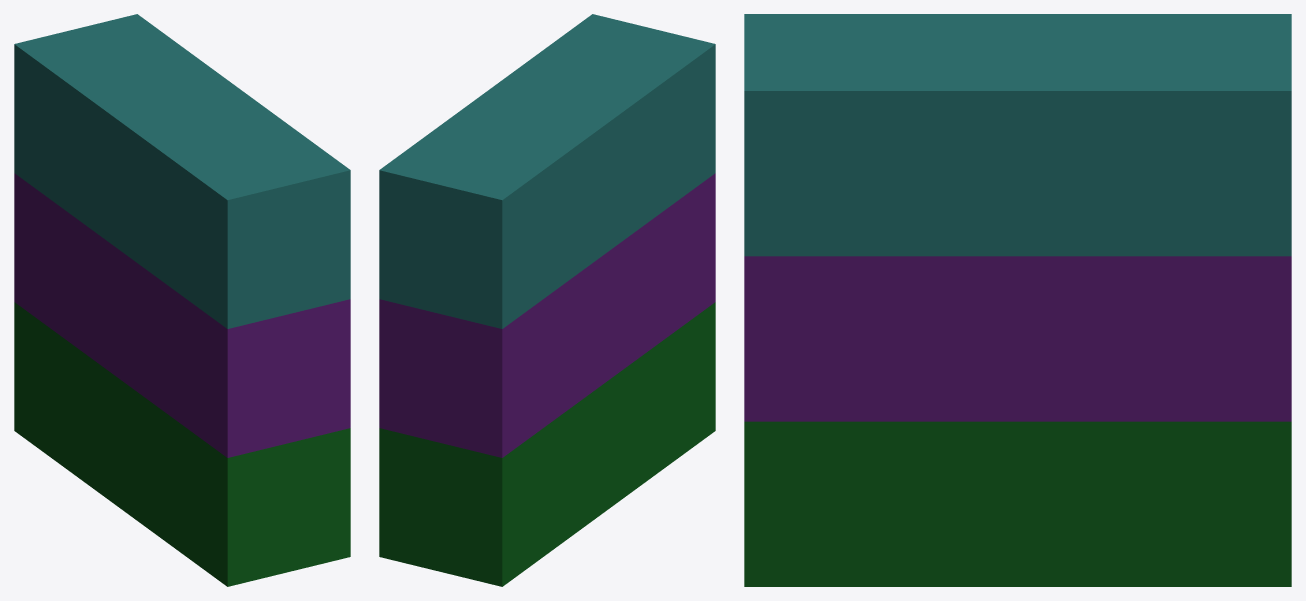
File: BombPort3Wire.obj
The picture shows the model from 3 angles, left to right: view 1: azimuth 30°, elevation 25°; view 2: azimuth 150°, elevation 25°; view 3: azimuth 270°, elevation 25°; orthographic projection. The views are drawn at different scales.
Bounding box in the file's own units: 0.1 × 0.3 × 0.3.
1 material, 1 textured.
